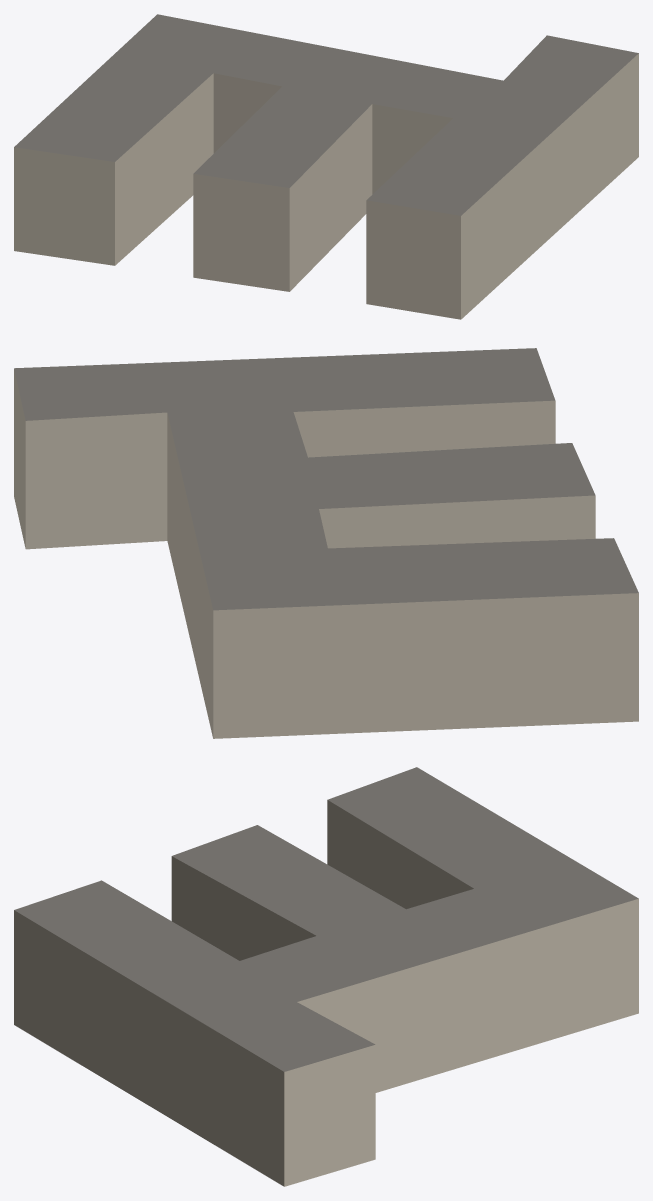
The picture shows the model from 3 angles, top to bottom: view 1: azimuth 30°, elevation 25°; view 2: azimuth 150°, elevation 25°; view 3: azimuth 270°, elevation 25°; orthographic projection. The views are drawn at different scales.
Parts seen in each view (by area): view 1: HP-w505633375; view 2: HP-w505633375; view 3: HP-w505633375.
Part boxes in pixels (left/top/right/bottom): HP-w505633375: left=14, top=14, right=638, bottom=319; HP-w505633375: left=14, top=348, right=638, bottom=738; HP-w505633375: left=14, top=767, right=638, bottom=1186.
Bounding box in the file's own units: 102 × 18 × 88.77.
